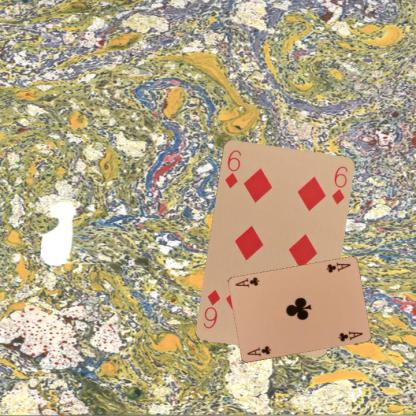6d: (222, 146, 242, 190)
Ac: (245, 343, 272, 358), (324, 260, 351, 274)
